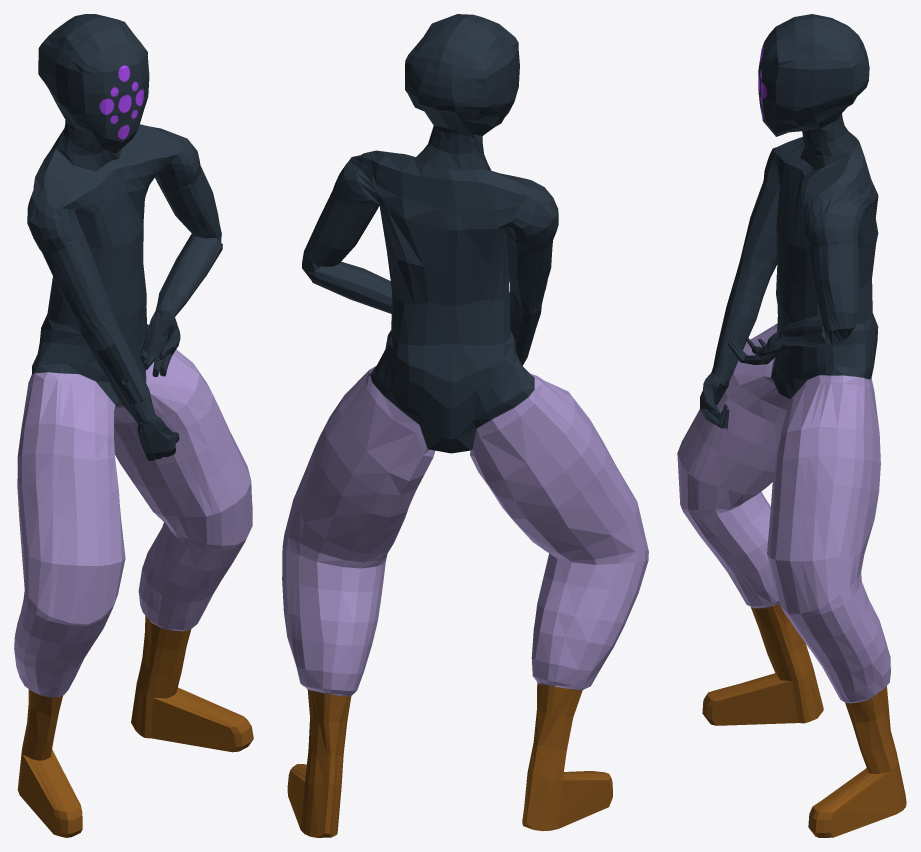
File: Oracle_WL_000017.obj
The picture shows the model from 3 angles, left to right: view 1: azimuth 30°, elevation 25°; view 2: azimuth 150°, elevation 25°; view 3: azimuth 270°, elevation 25°; orthographic projection. The views are drawn at different scales.
Parts seen in each view (by area): view 1: Cube; view 2: Cube; view 3: Cube.
Part boxes in pixels (left/top/right/bottom): Cube: left=14, top=14, right=253, bottom=837; Cube: left=282, top=14, right=648, bottom=837; Cube: left=677, top=14, right=906, bottom=837.
Bounding box in the file's own units: 1.44 × 3.76 × 1.05.
